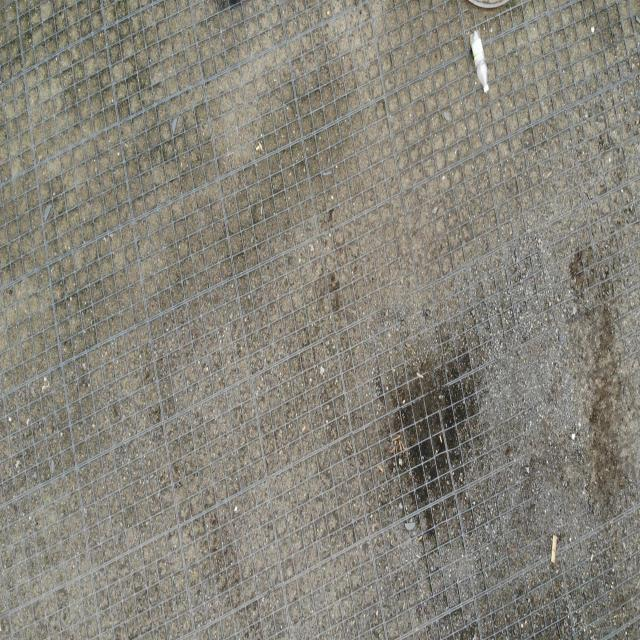rubbish: (468, 30, 489, 94), (550, 535, 558, 564)
